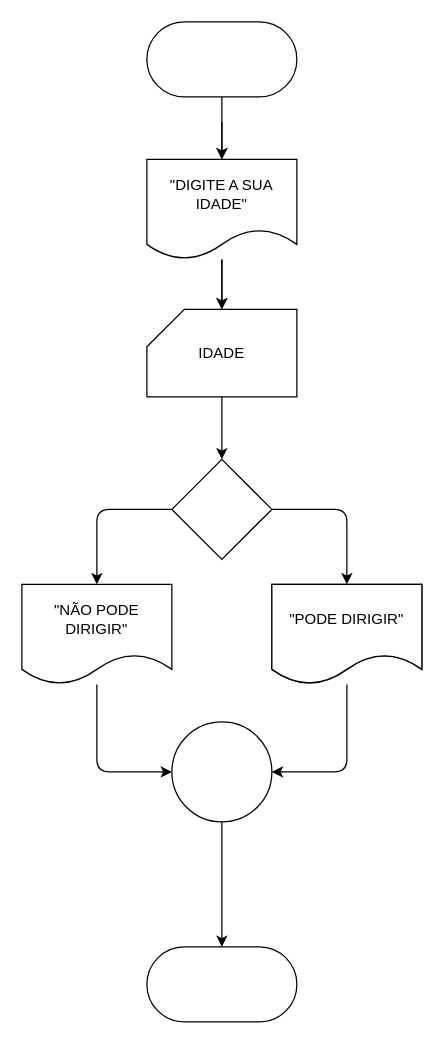
Some shapes in this 444 by 1044 pixel diagram are drawn without their labels. The shapes that lost their labels are listed below. From the top down, each one's centre as x and y in pixels, then its label:
point 221,59: INICIO
point 221,508: IDADE>=18
point 221,984: FIM
